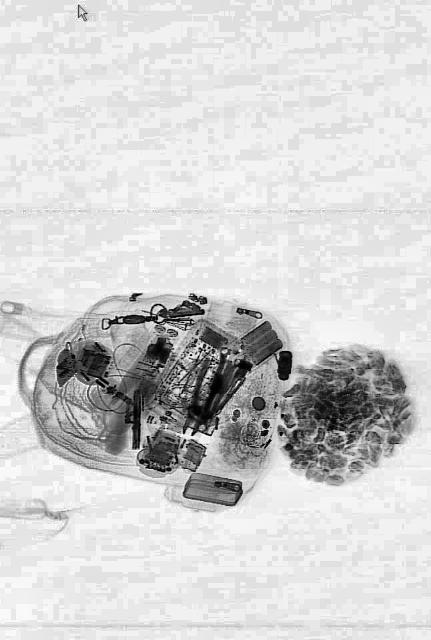Pliers: (175, 353, 232, 445)
Wrench: (196, 346, 228, 436)
